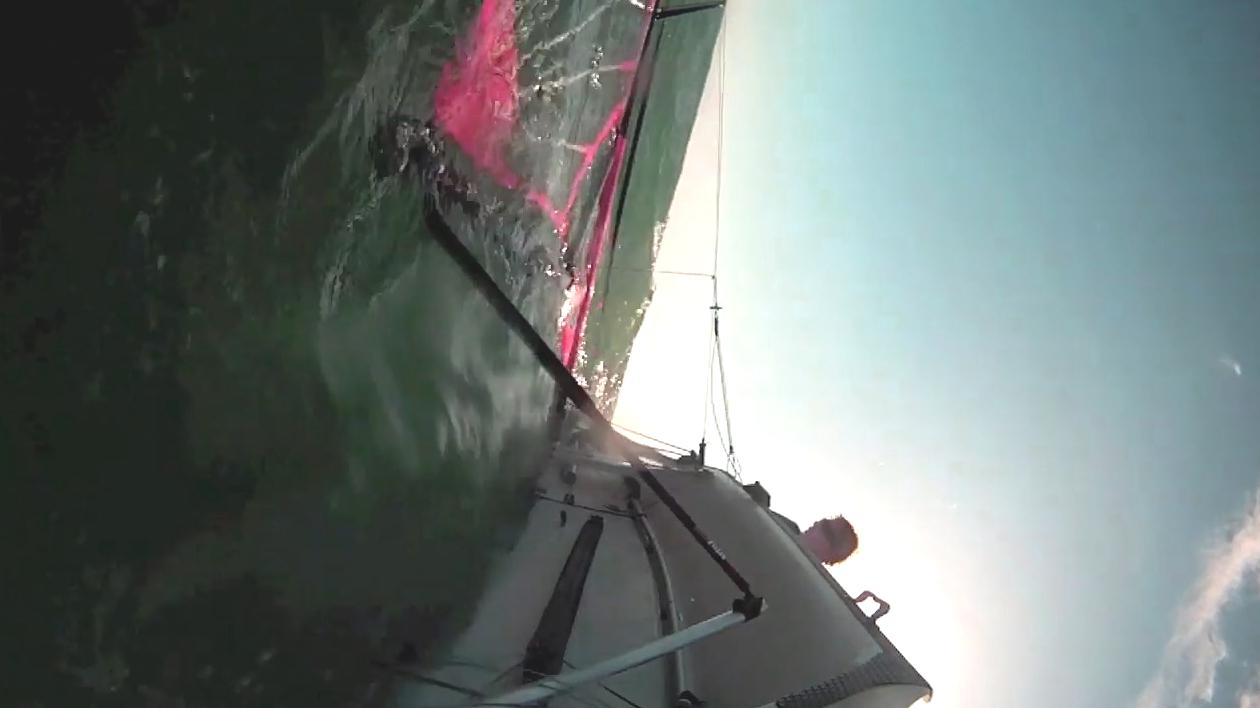boat: (420, 0, 932, 708)
person: (800, 518, 864, 570)
sea: (0, 0, 553, 708), (569, 0, 727, 421)
sky: (677, 0, 1260, 708)
